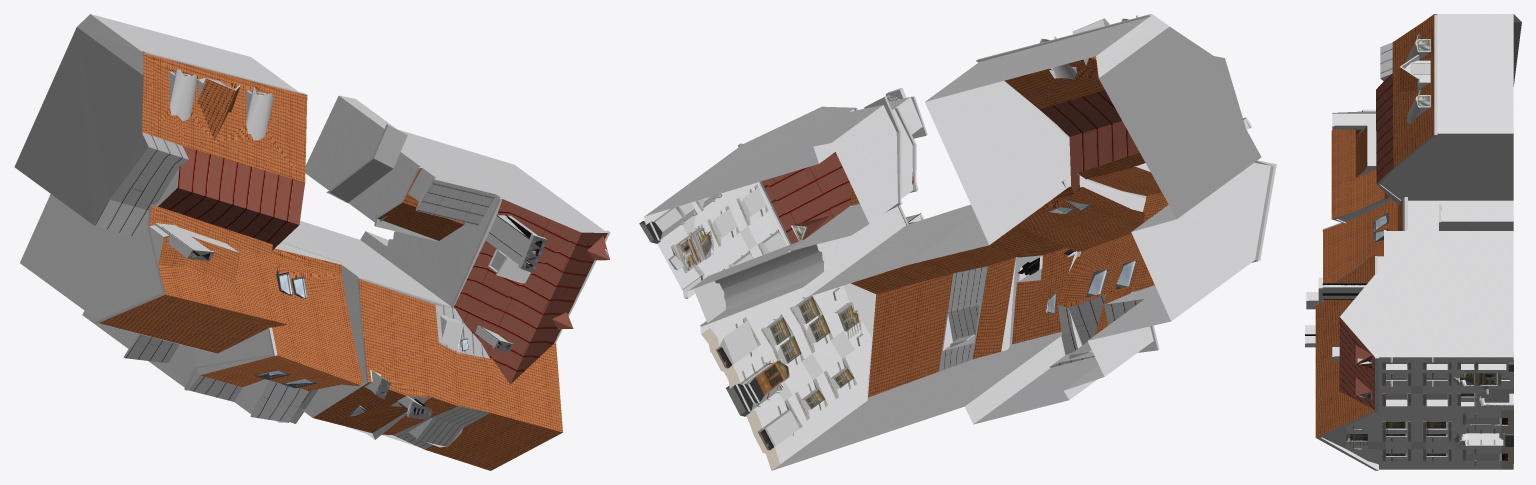
The model's file is Rataskaevu_18-origo.obj.
The picture shows the model from 3 angles, left to right: view 1: azimuth 30°, elevation 25°; view 2: azimuth 150°, elevation 25°; view 3: azimuth 270°, elevation 25°; orthographic projection. The views are drawn at different scales.
Visible parts, largest first — view 1: Rataskaevu_18; view 2: Rataskaevu_18; view 3: Rataskaevu_18.
Boxes of the visible parts, x1=… form: Rataskaevu_18: x1=14, y1=14, x2=610, y2=470; Rataskaevu_18: x1=639, y1=14, x2=1276, y2=470; Rataskaevu_18: x1=1305, y1=14, x2=1521, y2=470.
Size of the model in its own units: 35.31 by 31 by 17.66.
